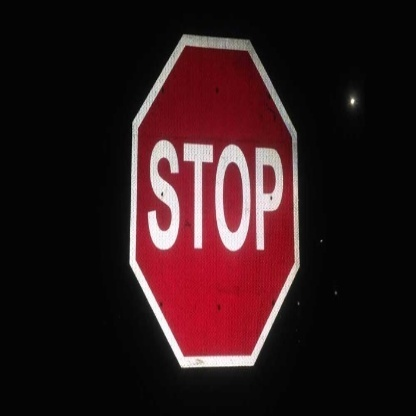stop: (126, 34, 300, 370)
